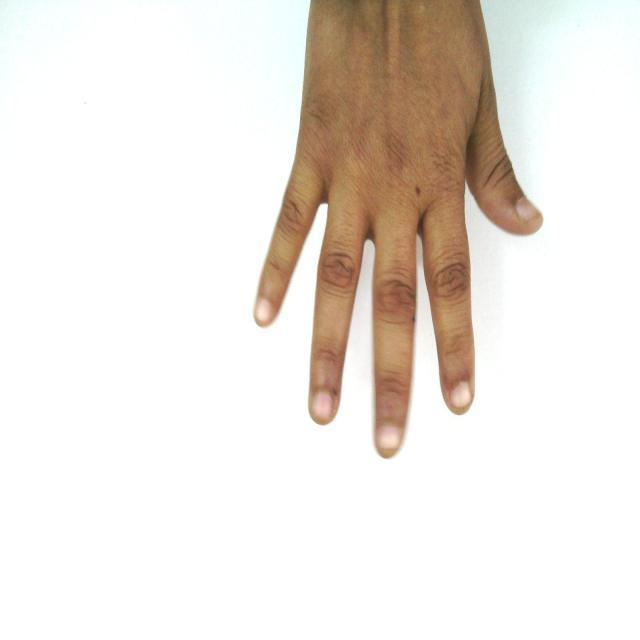Fingernail: (517, 197, 541, 224), (312, 392, 332, 422), (378, 425, 400, 450), (451, 382, 470, 409), (256, 300, 273, 324)
